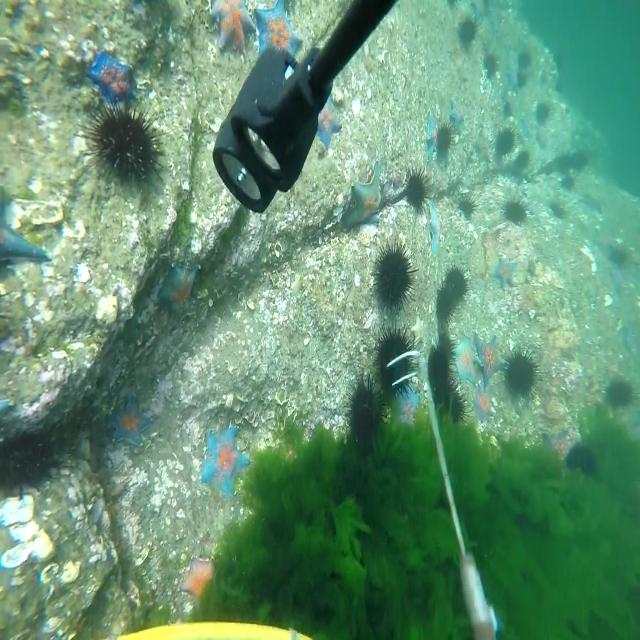echinus: (73, 95, 174, 195), (369, 235, 422, 318), (371, 319, 420, 405), (342, 372, 387, 451), (502, 342, 546, 400), (441, 375, 473, 429), (427, 345, 456, 403), (403, 165, 433, 214), (605, 372, 640, 411), (443, 262, 474, 302), (564, 443, 599, 477), (435, 281, 457, 329), (496, 120, 522, 159), (502, 194, 532, 227), (434, 115, 457, 156), (438, 330, 459, 371), (458, 16, 480, 44), (457, 193, 480, 219), (610, 245, 628, 268), (484, 50, 498, 78), (536, 100, 550, 126), (557, 152, 573, 174), (514, 149, 530, 171), (573, 150, 589, 169), (518, 50, 532, 70), (554, 50, 566, 72), (502, 98, 514, 120), (562, 172, 576, 190), (549, 202, 563, 220), (515, 70, 528, 88), (535, 134, 545, 150), (544, 162, 553, 176)
starfish: (198, 422, 254, 506), (82, 46, 140, 108), (341, 158, 385, 233), (202, 3, 259, 57), (107, 396, 153, 451), (157, 258, 200, 316), (256, 15, 306, 63), (177, 554, 220, 606), (474, 332, 512, 386), (314, 89, 344, 153), (14, 227, 54, 266), (453, 338, 484, 387), (392, 378, 423, 424), (542, 427, 574, 462), (427, 203, 442, 257), (471, 127, 492, 165), (474, 386, 495, 423), (494, 258, 516, 290), (617, 320, 636, 356), (410, 314, 428, 350), (448, 97, 466, 131), (580, 189, 604, 214), (426, 110, 437, 161), (504, 64, 520, 96), (592, 241, 609, 270), (609, 264, 624, 293), (520, 112, 532, 138), (470, 1, 487, 19)
